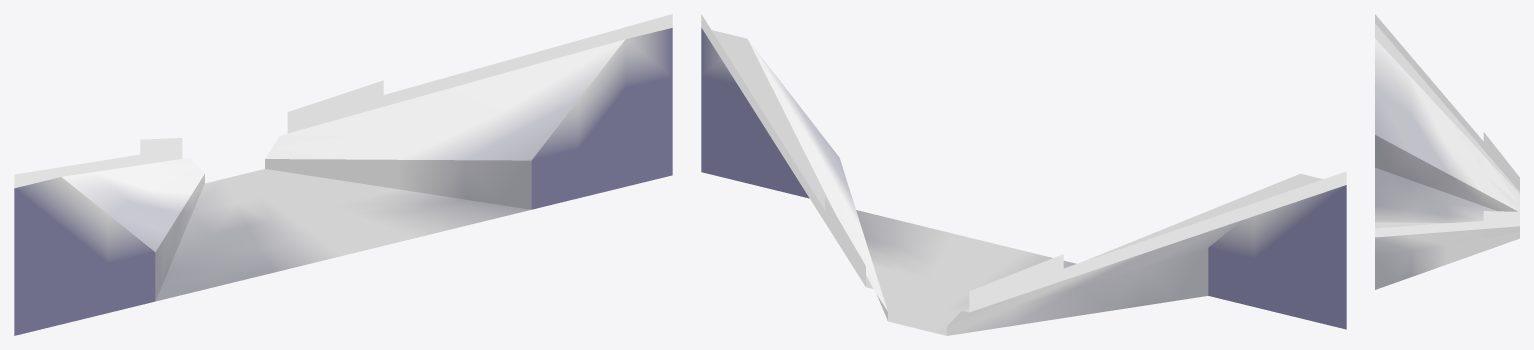
The picture shows the model from 3 angles, left to right: view 1: azimuth 30°, elevation 25°; view 2: azimuth 150°, elevation 25°; view 3: azimuth 270°, elevation 25°; orthographic projection. The views are drawn at different scales.
Visible parts, largest first — view 1: object0; view 2: object0; view 3: object0.
Part boxes in pixels (box(x1,y1,x2,y2)): object0: box(14, 14, 672, 335); object0: box(701, 14, 1346, 335); object0: box(1375, 14, 1519, 289).
Bounding box in the file's own units: 14336 × 3359 × 4096.
